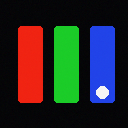2 circle: (96, 86, 108, 98)
